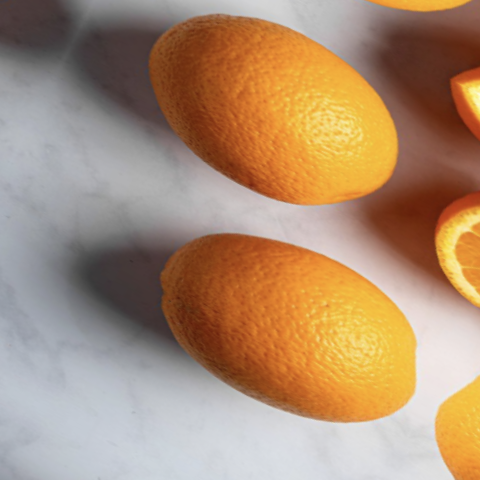orange: (120, 175, 464, 473), (114, 0, 444, 258)
